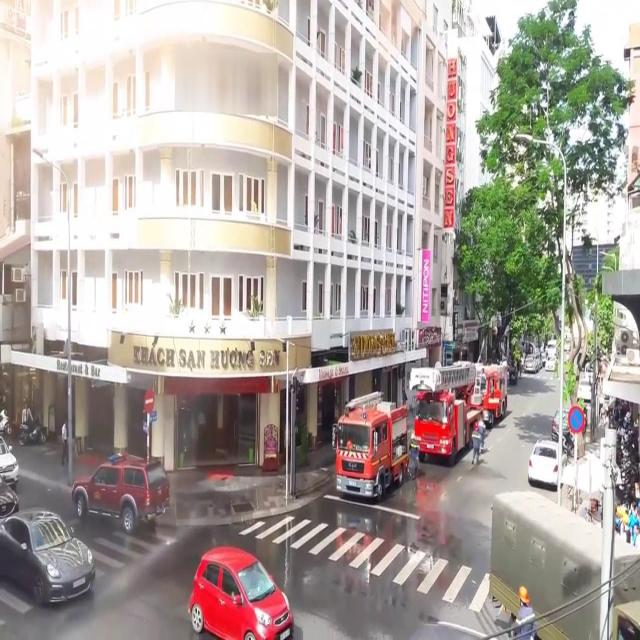car: (188, 542, 291, 638), (0, 508, 94, 609), (72, 451, 170, 526), (528, 437, 567, 490), (552, 406, 572, 440)
truck: (490, 489, 640, 639), (334, 392, 408, 504), (411, 369, 484, 466), (467, 360, 507, 429)
